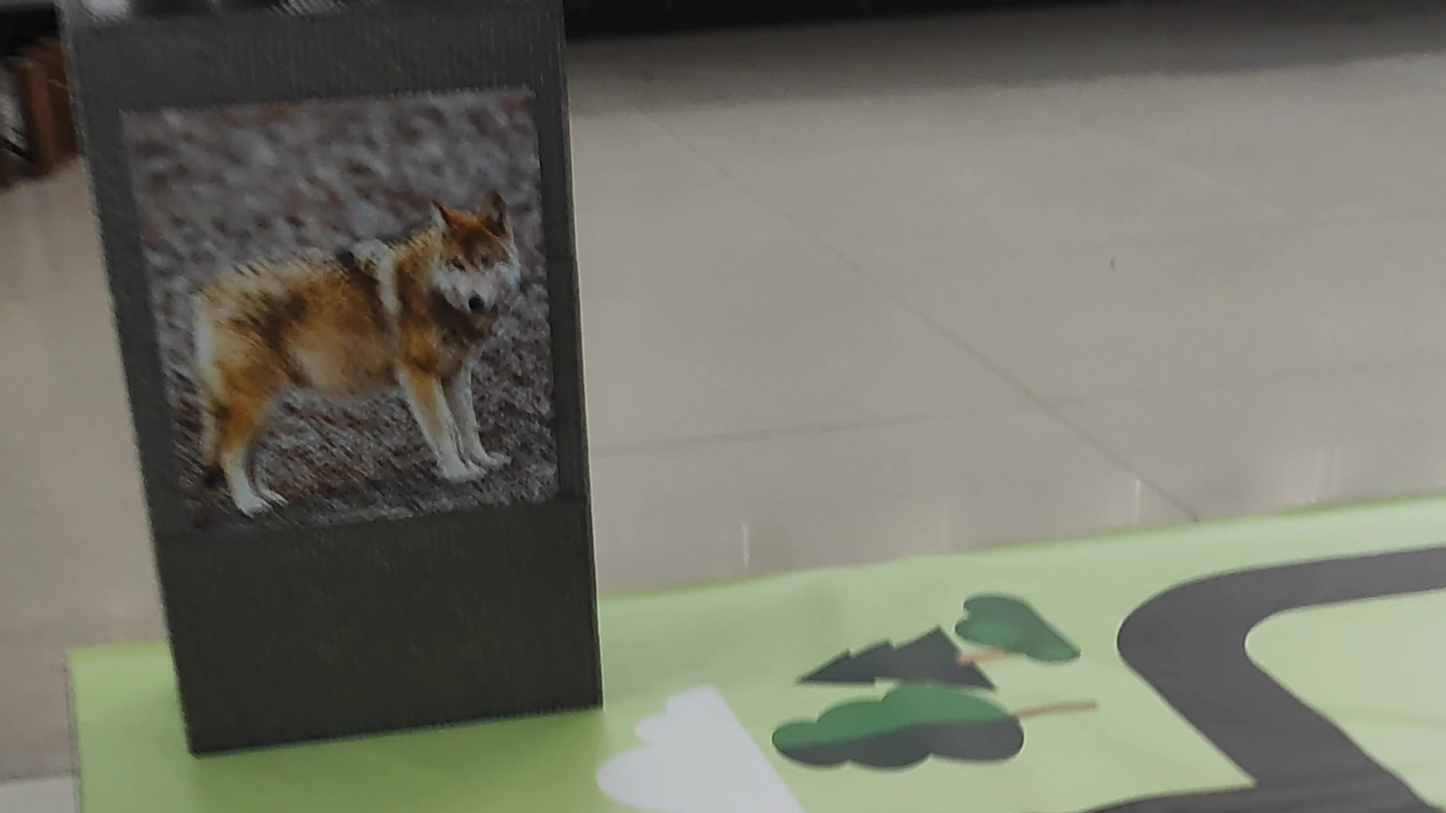wolf: (154, 166, 550, 519)
